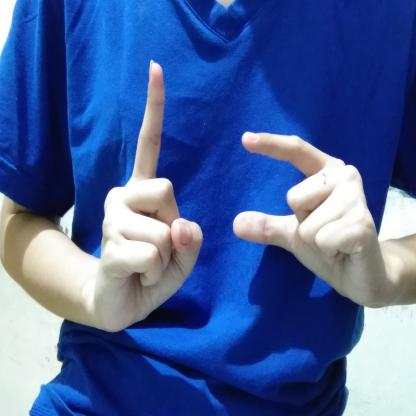daughter: (94, 54, 384, 337)
